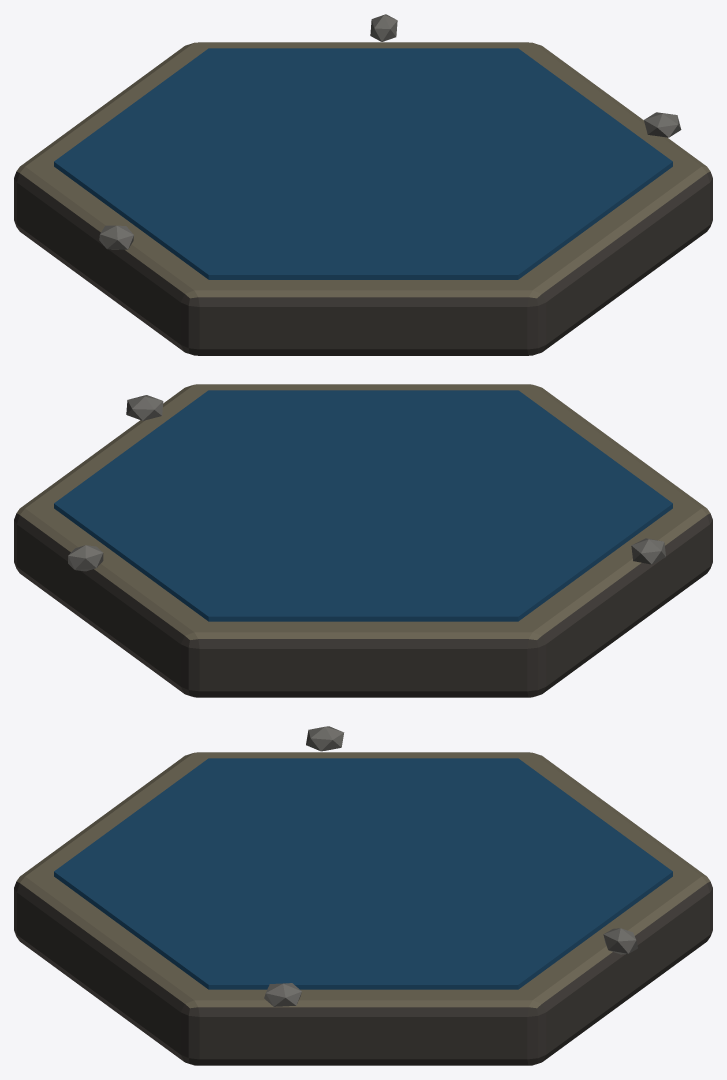
The model's file is water.glb.
The picture shows the model from 3 angles, top to bottom: view 1: azimuth 30°, elevation 25°; view 2: azimuth 150°, elevation 25°; view 3: azimuth 270°, elevation 25°; orthographic projection.
Visible parts, largest first — view 1: Cylinder.106, Cylinder.105, Icosphere.039, Icosphere.040, Icosphere.038; view 2: Cylinder.106, Cylinder.105, Icosphere.039, Icosphere.038, Icosphere.040; view 3: Cylinder.106, Cylinder.105, Icosphere.040, Icosphere.039, Icosphere.038.
Part boxes in pixels (bbox=[...]): Cylinder.106: bbox=[54, 48, 672, 279]; Cylinder.105: bbox=[14, 42, 712, 355]; Icosphere.039: bbox=[644, 112, 681, 137]; Icosphere.040: bbox=[99, 225, 133, 249]; Icosphere.038: bbox=[370, 14, 397, 41]; Cylinder.106: bbox=[54, 390, 672, 621]; Cylinder.105: bbox=[14, 384, 712, 697]; Icosphere.039: bbox=[126, 395, 163, 420]; Icosphere.038: bbox=[68, 545, 103, 571]; Icosphere.040: bbox=[631, 538, 665, 564]; Cylinder.106: bbox=[54, 758, 672, 989]; Cylinder.105: bbox=[14, 752, 712, 1065]; Icosphere.040: bbox=[306, 726, 344, 751]; Icosphere.039: bbox=[264, 983, 301, 1006]; Icosphere.038: bbox=[603, 928, 637, 954].
Size of the model in its own units: 1.78 by 0.2644 by 1.94.
